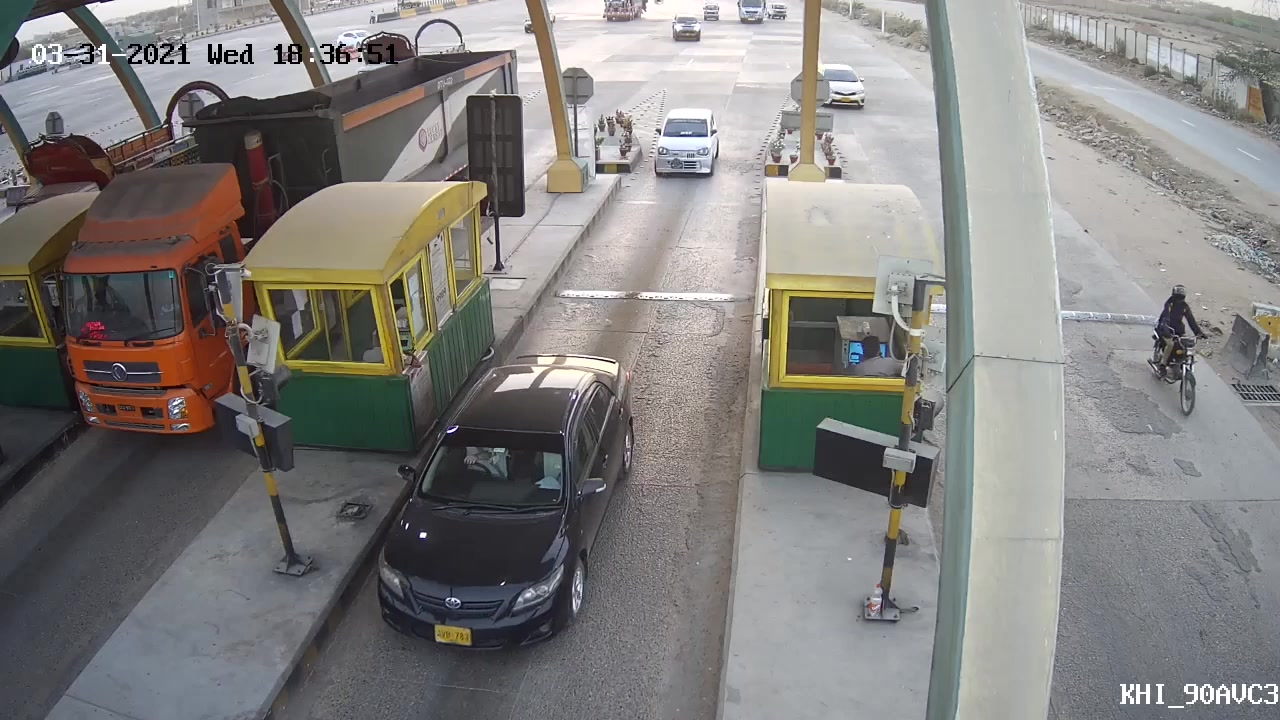F1: (362, 347, 653, 659), (647, 102, 731, 182)
